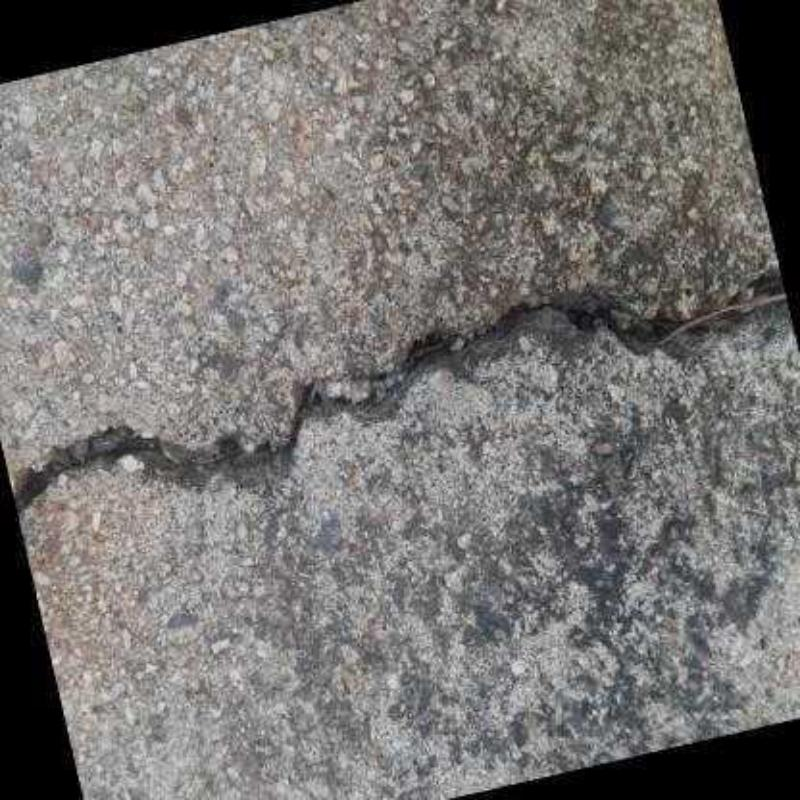pothole: (10, 261, 791, 524)
